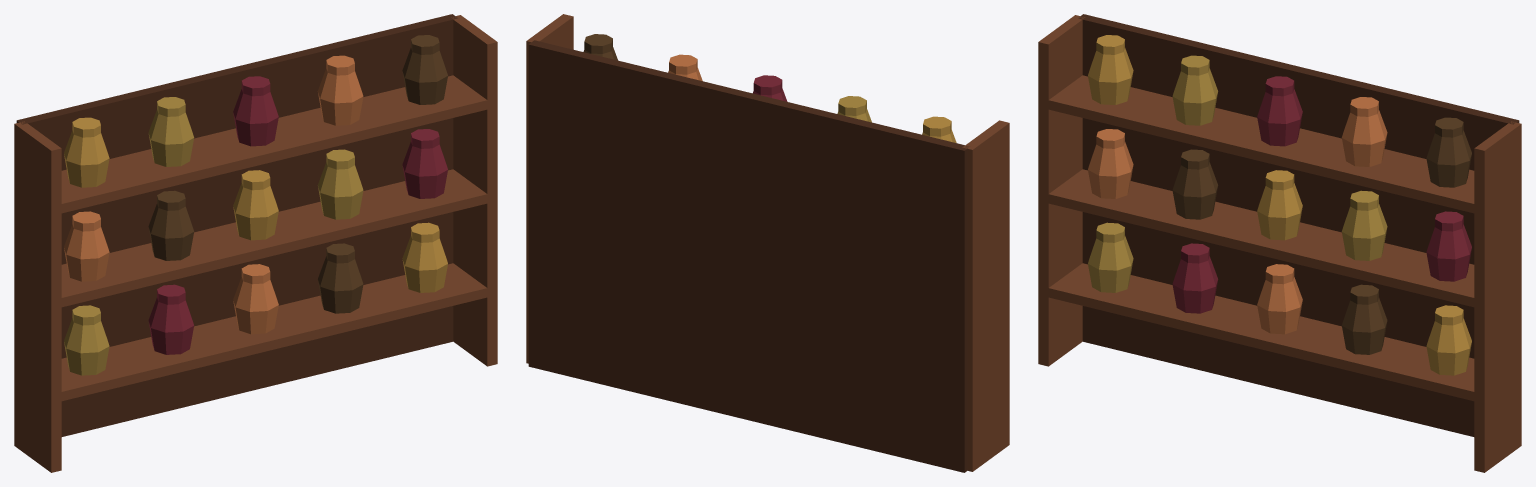
The model's file is kiln_shelves.gltf.
3 renders of one model, left to right at view 1: azimuth 30°, elevation 25°; view 2: azimuth 150°, elevation 25°; view 3: azimuth 330°, elevation 25°, orthographic.
Parts seen in each view (by area): view 1: back, sides, shelf3, shelf1, shelf2, jar8, jar3, jar13, jar9, jar14, jar4, jar1 (+8 smaller); view 2: back, sides, jar13, jar11, jar12, jar15, jar14; view 3: back, sides, shelf1, shelf3, shelf2, jar8, jar3, jar13, jar7, jar12, jar2, jar5 (+8 smaller).
Part boxes in pixels (x1,y1,x2,y2): back: (16,14,457,436); sides: (14,15,497,472); shelf3: (56,75,492,213); shelf1: (56,263,492,401); shelf2: (57,169,492,307); jar8: (233,170,278,240); jar3: (233,264,278,334); jar13: (233,76,278,146); jar9: (317,149,363,219); jar14: (317,55,363,125); jar4: (317,243,363,313); jar1: (64,305,109,375); back: (528,40,969,472); sides: (526,14,1009,471); jar13: (753,75,787,101); jar11: (922,116,956,142); jar12: (837,96,871,122); jar15: (583,34,617,60); jar14: (668,54,702,81); back: (1078,14,1519,436); sides: (1038,15,1521,472); shelf1: (1043,263,1479,402); shelf3: (1043,75,1479,214); shelf2: (1043,169,1478,307); jar8: (1257,170,1302,240); jar3: (1257,264,1302,334); jar13: (1257,76,1302,146); jar7: (1172,149,1218,219); jar12: (1172,55,1218,125); jar2: (1172,243,1218,313); jar5: (1426,305,1471,375).
Size of the model in its own units: 3.48 by 2.4 by 0.54.
